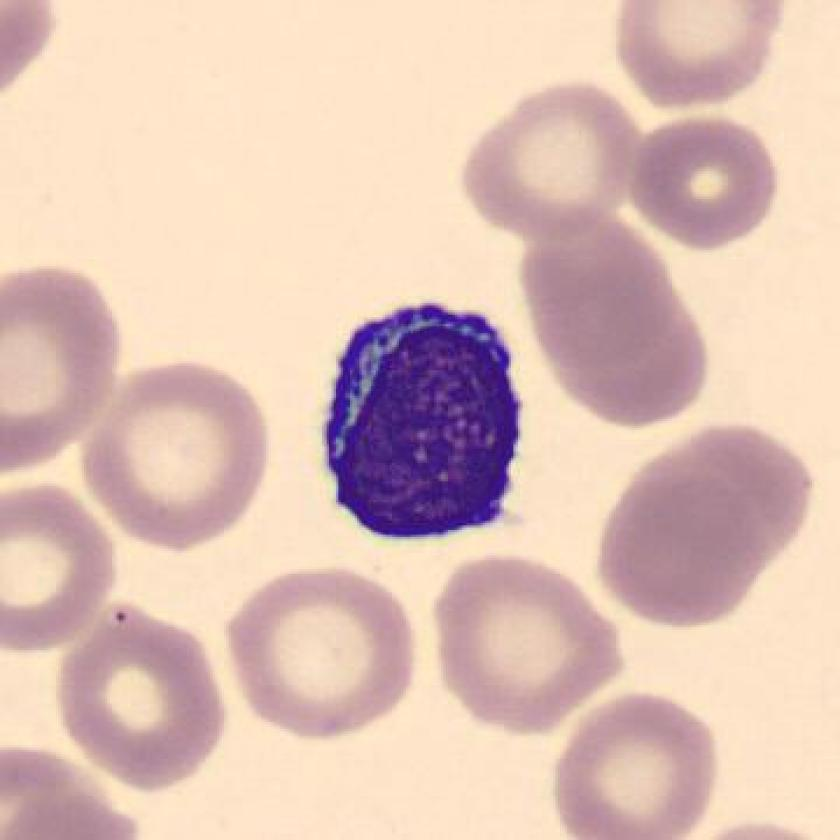lymphocyte: (304, 295, 540, 556)
